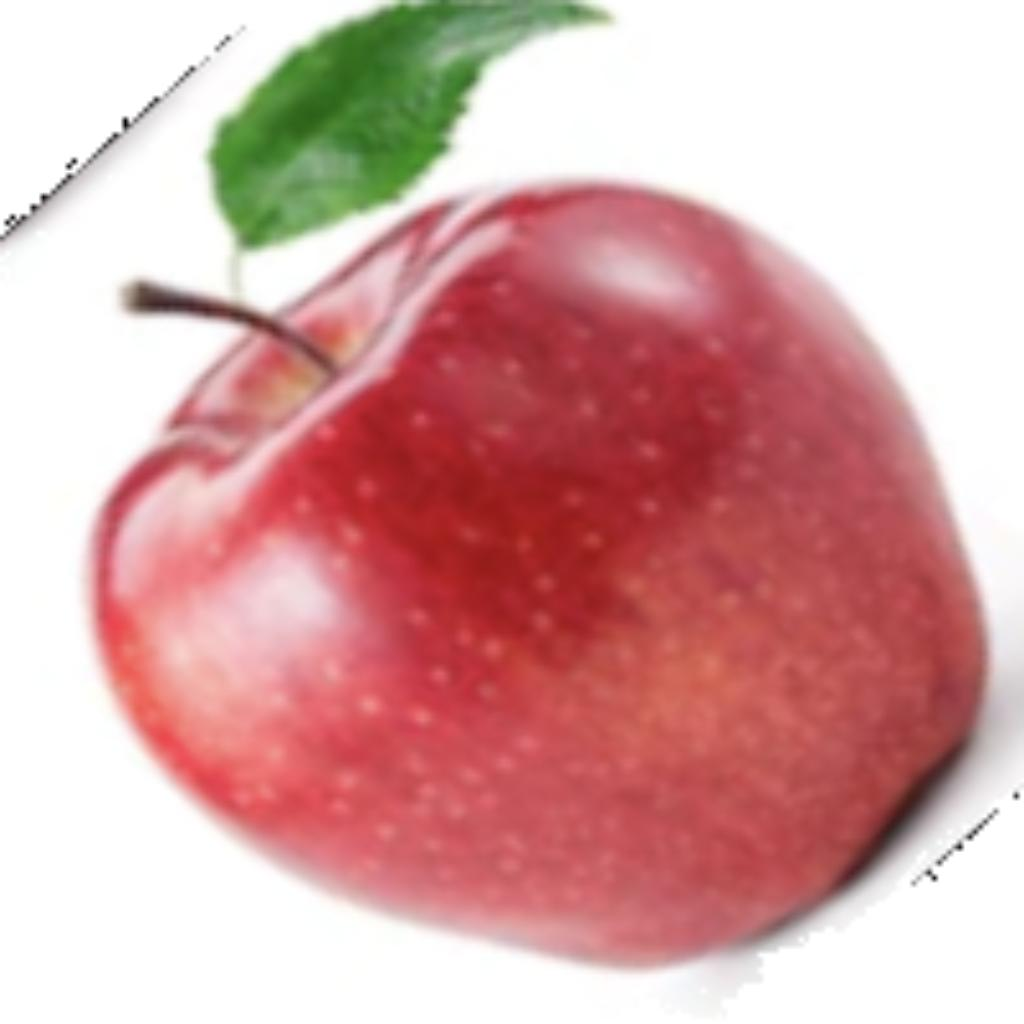apple: (72, 0, 1019, 1009)
